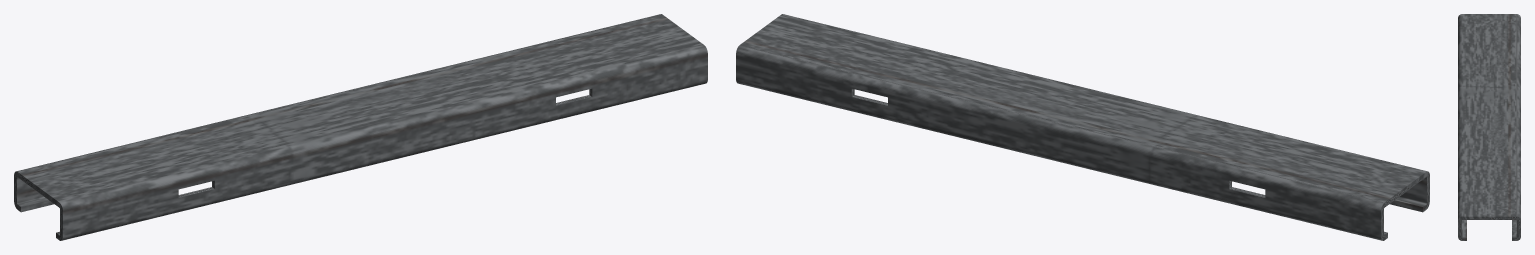
File: study.glb
The picture shows the model from 3 angles, left to right: view 1: azimuth 30°, elevation 25°; view 2: azimuth 150°, elevation 25°; view 3: azimuth 270°, elevation 25°; orthographic projection. The views are drawn at different scales.
Parts seen in each view (by area): view 1: seat_rail_study; view 2: seat_rail_study; view 3: seat_rail_study.
Boxes of the visible parts, <box> form: seat_rail_study: <box>14,14,707,240</box>; seat_rail_study: <box>736,14,1429,240</box>; seat_rail_study: <box>1458,14,1520,240</box>.
Size of the model in its own units: 0.32 by 0.018 by 0.042.
Materials: 1 (1 with a texture image).
